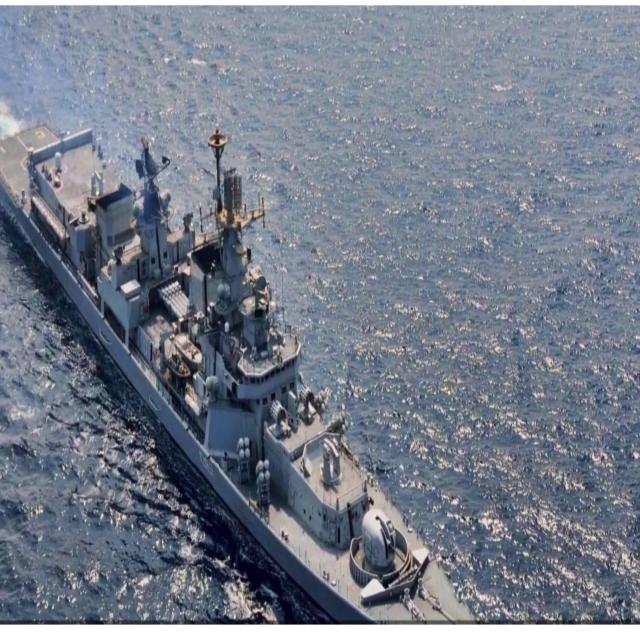OCR: (193, 445, 219, 487)
